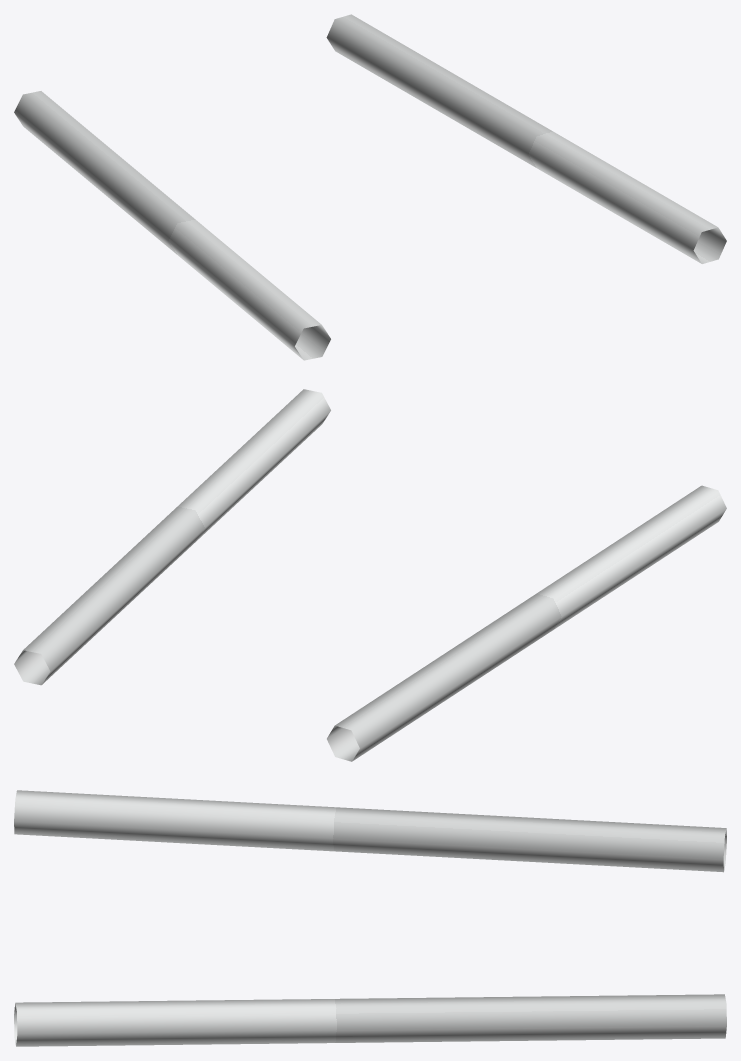
File: nycsignalarm_regular8_c10.obj
3 views of the same model, one above another, from view 1: azimuth 30°, elevation 25°; view 2: azimuth 150°, elevation 25°; view 3: azimuth 270°, elevation 25° (orthographic). The views are drawn at different scales.
Parts seen in each view (by area): view 1: nycsignalarm_regular8_c10; view 2: nycsignalarm_regular8_c10; view 3: nycsignalarm_regular8_c10.
Boxes of the visible parts, box(x1,y1,x2,y2) form: nycsignalarm_regular8_c10: box(14, 14, 726, 360); nycsignalarm_regular8_c10: box(14, 389, 726, 761); nycsignalarm_regular8_c10: box(14, 790, 726, 1046).
Bounding box in the file's own units: 0.7705 × 0.0772 × 1.
